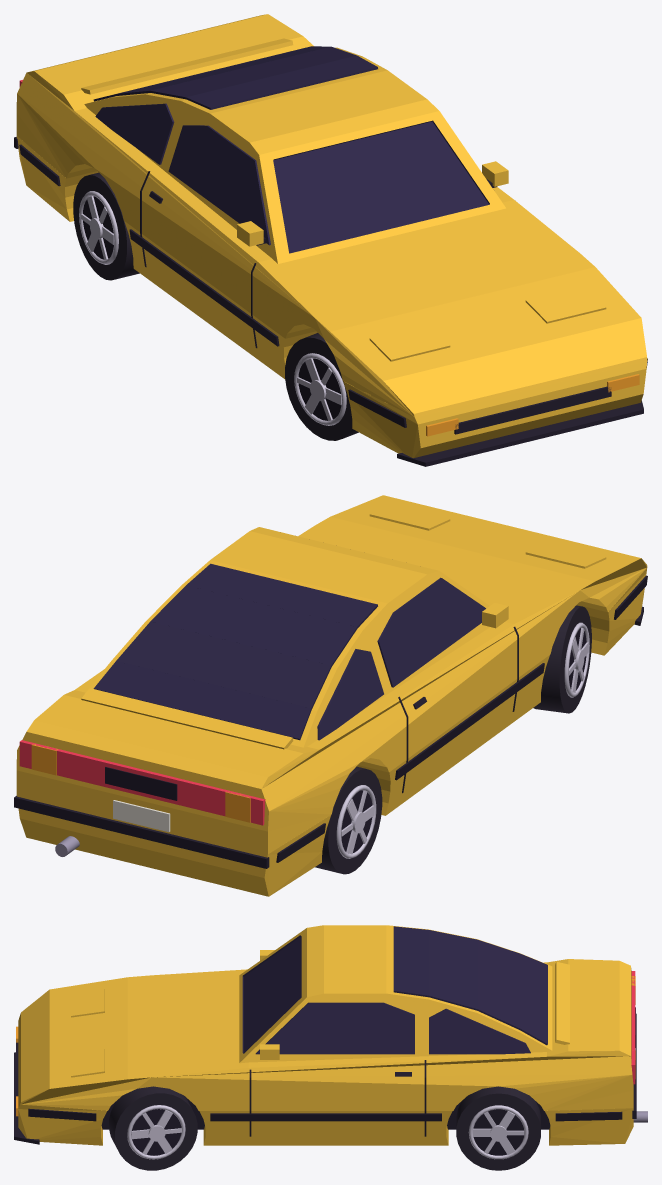
The model's file is kaze_fc_sunny.glb.
The picture shows the model from 3 angles, top to bottom: view 1: azimuth 30°, elevation 25°; view 2: azimuth 150°, elevation 25°; view 3: azimuth 270°, elevation 25°; orthographic projection. The views are drawn at different scales.
Parts seen in each view (by area): view 1: body_mid, body_top, cabin, glass_windshield, body_low_front, glass_door, body_low_mid, glass_rear_3, glass_rear_2, lip_front, glass_quarter, wheel_RL_tire (+12 smaller); view 2: body_mid, body_top, cabin, body_low_rear, glass_rear_1, glass_rear_2, glass_rear_0, glass_door, body_low_mid, glass_rear_3, taillamp_band, bumper_rear_strip (+15 smaller); view 3: body_mid, body_top, cabin, body_low_mid, glass_door, glass_windshield, wheel_FR_tire, wheel_RR_tire, glass_rear_2, glass_rear_1, glass_quarter, body_low_front (+16 smaller).
Part boxes in pixels (x1=…): body_mid: x1=16, y1=94, x2=647, y2=417; body_top: x1=17, y1=14, x2=579, y2=317; cabin: x1=84, y1=47, x2=505, y2=263; glass_windshield: x1=273, y1=120, x2=489, y2=253; body_low_front: x1=343, y1=361, x2=647, y2=458; glass_door: x1=168, y1=125, x2=270, y2=245; body_low_mid: x1=124, y1=221, x2=317, y2=379; glass_rear_3: x1=186, y1=55, x2=377, y2=109; glass_rear_2: x1=150, y1=46, x2=356, y2=99; lip_front: x1=397, y1=400, x2=643, y2=466; glass_quarter: x1=95, y1=103, x2=174, y2=164; wheel_RL_tire: x1=73, y1=172, x2=139, y2=280; body_mid: x1=16, y1=495, x2=647, y2=854; body_top: x1=17, y1=525, x2=579, y2=811; cabin: x1=84, y1=527, x2=489, y2=747; body_low_rear: x1=16, y1=793, x2=330, y2=896; glass_rear_1: x1=116, y1=621, x2=331, y2=709; glass_rear_2: x1=150, y1=585, x2=357, y2=666; glass_rear_0: x1=93, y1=660, x2=311, y2=740; glass_door: x1=377, y1=577, x2=485, y2=687; body_low_mid: x1=356, y1=655, x2=549, y2=815; glass_rear_3: x1=186, y1=563, x2=377, y2=628; taillamp_band: x1=19, y1=740, x2=265, y2=825; bumper_rear_strip: x1=14, y1=795, x2=269, y2=868; body_mid: x1=20, y1=975, x2=633, y2=1110; body_top: x1=152, y1=959, x2=632, y2=1077; cabin: x1=239, y1=925, x2=552, y2=1063; body_low_mid: x1=199, y1=1111, x2=452, y2=1145; glass_door: x1=255, y1=1002, x2=414, y2=1054; glass_windshield: x1=242, y1=935, x2=301, y2=1053; wheel_FR_tire: x1=109, y1=1086, x2=197, y2=1170; wheel_RR_tire: x1=456, y1=1086, x2=540, y2=1170; glass_rear_2: x1=429, y1=930, x2=477, y2=1010; glass_rear_1: x1=477, y1=940, x2=520, y2=1029; glass_quarter: x1=429, y1=1008, x2=530, y2=1054; body_low_front: x1=18, y1=1016, x2=106, y2=1145.
Bounding box in the file's own units: 1.76 × 1.27 × 4.46.
